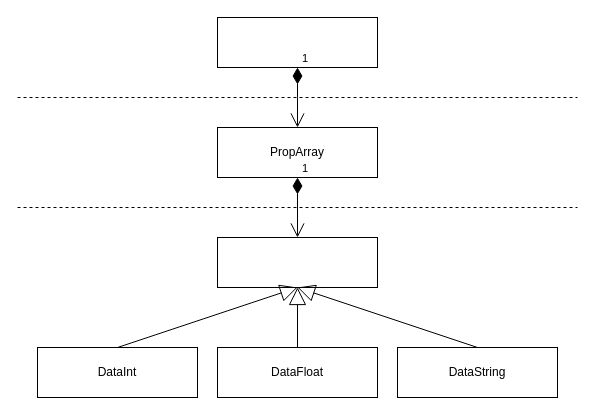
Some shapes in this 596 by 415 pixel diagram are drawn without their labels. Each missing label, with the centre of its shape:
DataBase: (297,262)
PyPropArray: (297,42)
